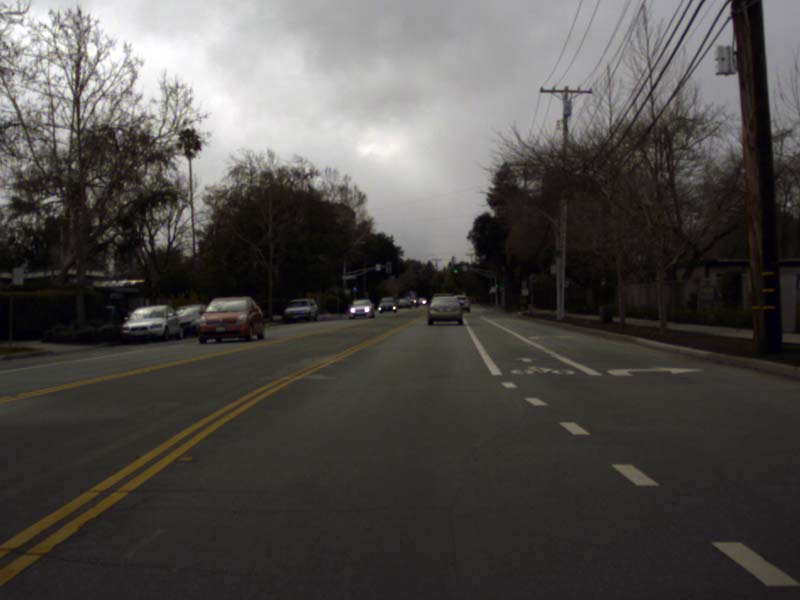Green: (452, 264, 457, 273), (352, 280, 355, 291), (495, 280, 498, 289)
